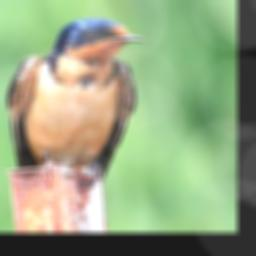Swallow: (4, 16, 145, 191)
